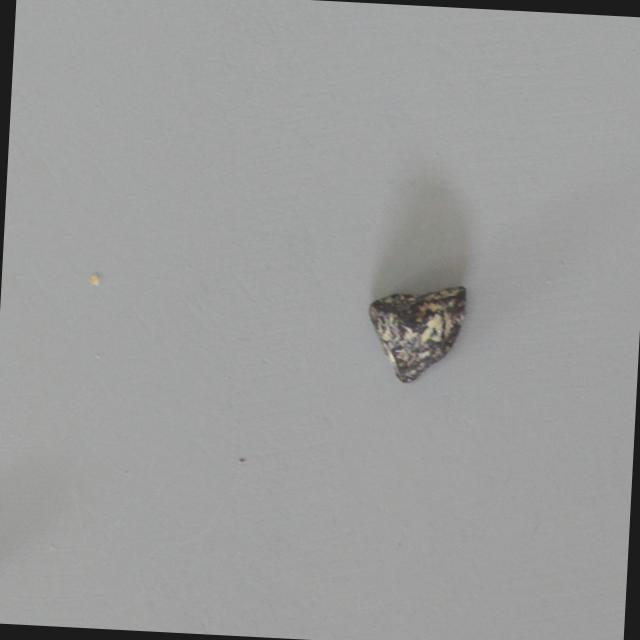cuerpos_extranos: (358, 275, 466, 402)
